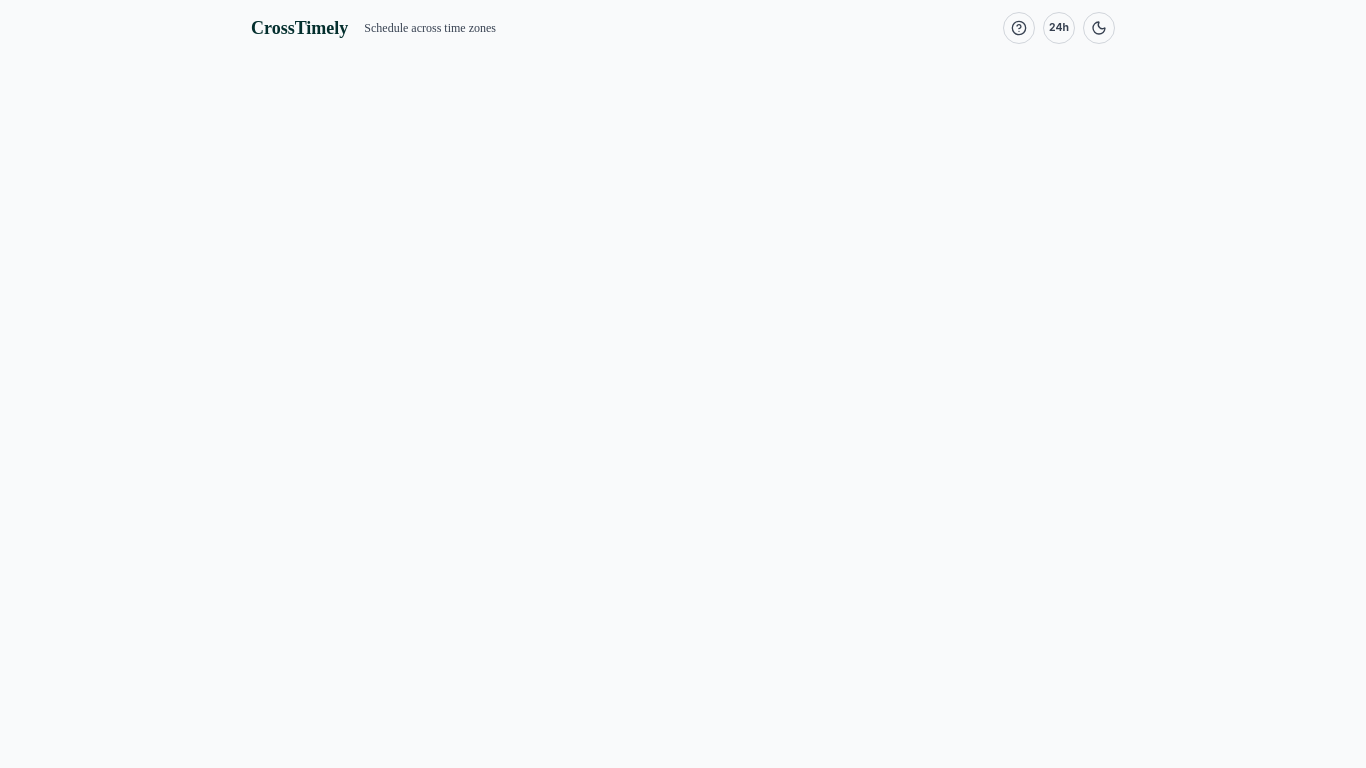
Test: Header › opens the how-it-works guide from the help button
Click the button named "How it works" at [1019, 28], box x1=1003 y1=12 x2=1035 y2=44
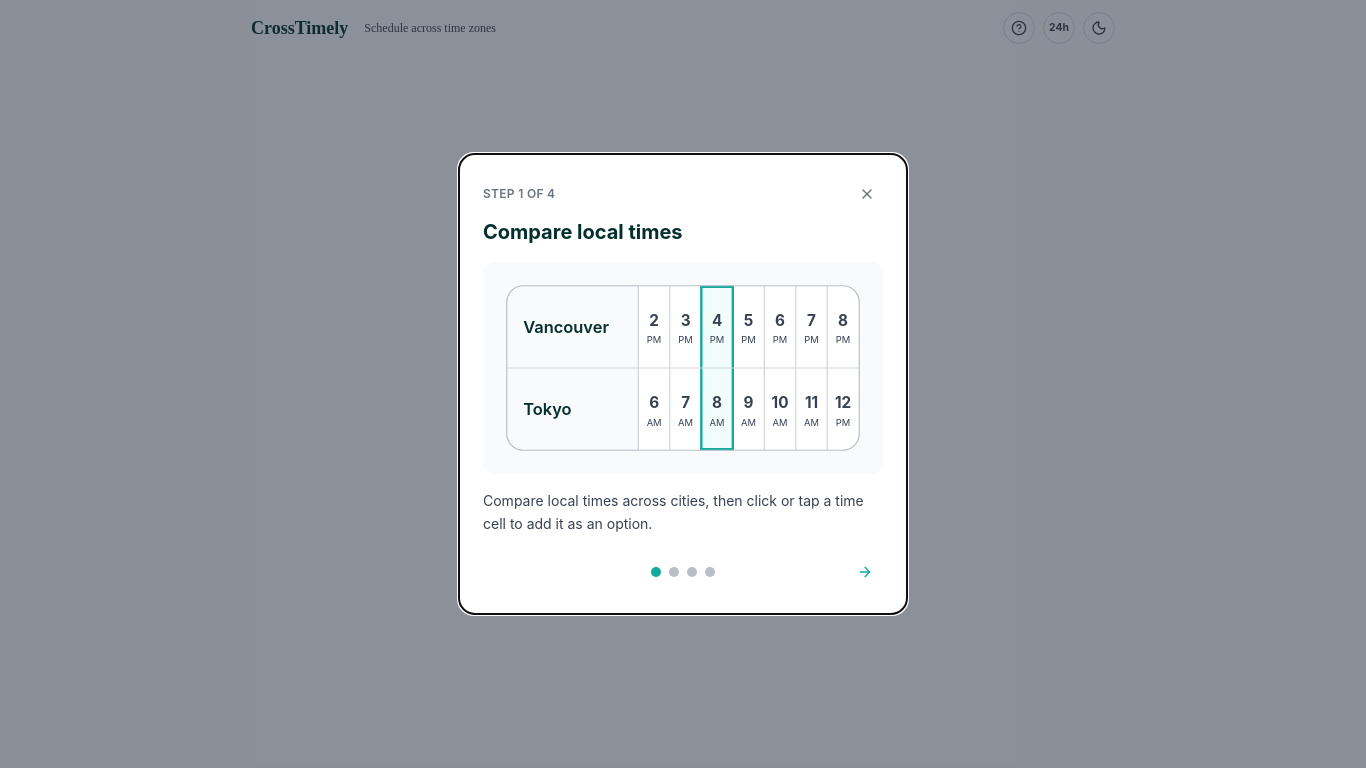
Now the dialog "Compare local times" is shown, box x1=459 y1=154 x2=907 y2=614
